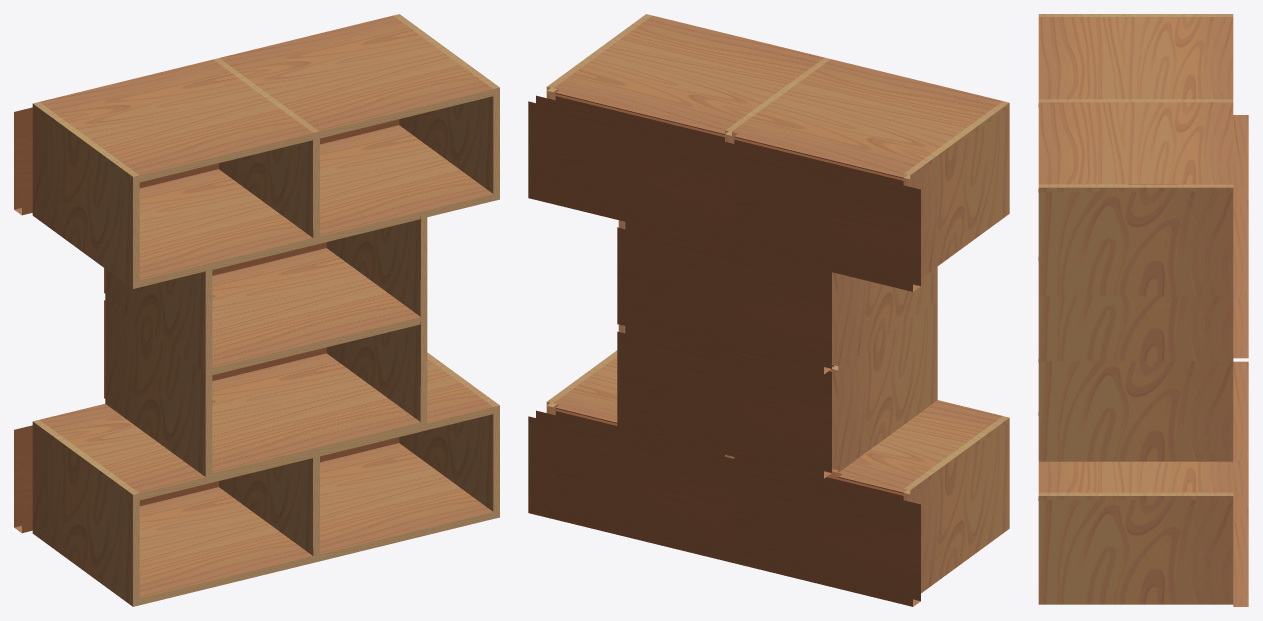
Rendered from layout_i_shape_6c.fbx.
The picture shows the model from 3 angles, left to right: view 1: azimuth 30°, elevation 25°; view 2: azimuth 150°, elevation 25°; view 3: azimuth 270°, elevation 25°; orthographic projection. The views are drawn at different scales.
Parts seen in each view (by area): view 1: Shelf-TM-00 1, Shelf-TM-00 5, Shelf-BM-00 2, Shelf-BM-00 3, Shelf-BM-00 4, Shelf-BM-00, Shelf-BM-00 1, Shelf-BM-00 5, Shelf-CL-01 2, Shelf-CL-01 5, Shelf-CL-01 4, Shelf-TM-00 4 (+22 smaller); view 2: Shelf-Back-00 (1) 2, Shelf-Back-00 (1) 3, Shelf-Back-00 (1) 1, Shelf-Back-00 (1), Shelf-Back-00 (1) 5, Shelf-Back-00 (1) 4, Shelf-TM-00 5, Shelf-TM-00 1, Shelf-CL-01 2, Shelf-CL-01 4, Shelf-CL-01 5, Shelf-TM-00 4 (+12 smaller); view 3: Shelf-CR-01 2, Shelf-CR-01 1, Shelf-CR-01, Shelf-TM-00 1, Shelf-TM-00 5, Shelf-CR-01 3, Shelf-TM-00, Shelf-Back-00 (1) 2, Shelf-CR-00 (1) 1, Shelf-CR-00, Shelf-CR-00 (1), Shelf-CR-00 1 (+11 smaller).
Boxes of the visible parts, box(x1,y1,x2,y2) form: Shelf-TM-00 1: box(219, 15, 493, 138); Shelf-TM-00 5: box(40, 59, 312, 182); Shelf-BM-00 2: box(212, 353, 420, 479); Shelf-BM-00 3: box(212, 248, 420, 374); Shelf-BM-00 4: box(139, 487, 312, 604); Shelf-BM-00: box(320, 443, 493, 561); Shelf-BM-00 1: box(320, 125, 493, 243); Shelf-BM-00 5: box(139, 169, 312, 287); Shelf-CL-01 2: box(105, 300, 212, 474); Shelf-CL-01 5: box(32, 108, 139, 281); Shelf-CL-01 4: box(32, 426, 139, 599); Shelf-TM-00 4: box(39, 404, 312, 500); Shelf-Back-00 (1) 2: box(617, 326, 831, 478); Shelf-Back-00 (1) 3: box(617, 222, 831, 374); Shelf-Back-00 (1) 1: box(528, 95, 742, 248); Shelf-Back-00 (1): box(528, 410, 742, 563); Shelf-Back-00 (1) 5: box(706, 139, 920, 291); Shelf-Back-00 (1) 4: box(714, 454, 920, 606); Shelf-TM-00 5: box(732, 59, 1002, 180); Shelf-TM-00 1: box(553, 15, 824, 137); Shelf-CL-01 2: box(832, 301, 937, 470); Shelf-CL-01 4: box(903, 422, 1009, 585); Shelf-CL-01 5: box(903, 107, 1009, 271); Shelf-TM-00 4: box(827, 400, 1002, 495); Shelf-CR-01 2: box(1038, 358, 1233, 459); Shelf-CR-01 1: box(1038, 189, 1233, 289); Shelf-CR-01: box(1038, 497, 1233, 597); Shelf-TM-00 1: box(1038, 102, 1233, 184); Shelf-TM-00 5: box(1038, 17, 1233, 99); Shelf-CR-01 3: box(1038, 256, 1233, 357); Shelf-TM-00: box(1038, 461, 1233, 492); Shelf-Back-00 (1) 2: box(1233, 361, 1248, 460); Shelf-CR-00 (1) 1: box(1038, 184, 1233, 191); Shelf-CR-00: box(1038, 597, 1233, 604); Shelf-CR-00 (1): box(1038, 492, 1233, 499); Shelf-CR-00 1: box(1038, 289, 1233, 296).
Bounding box in the file's own units: 179 × 189 × 86.3.
